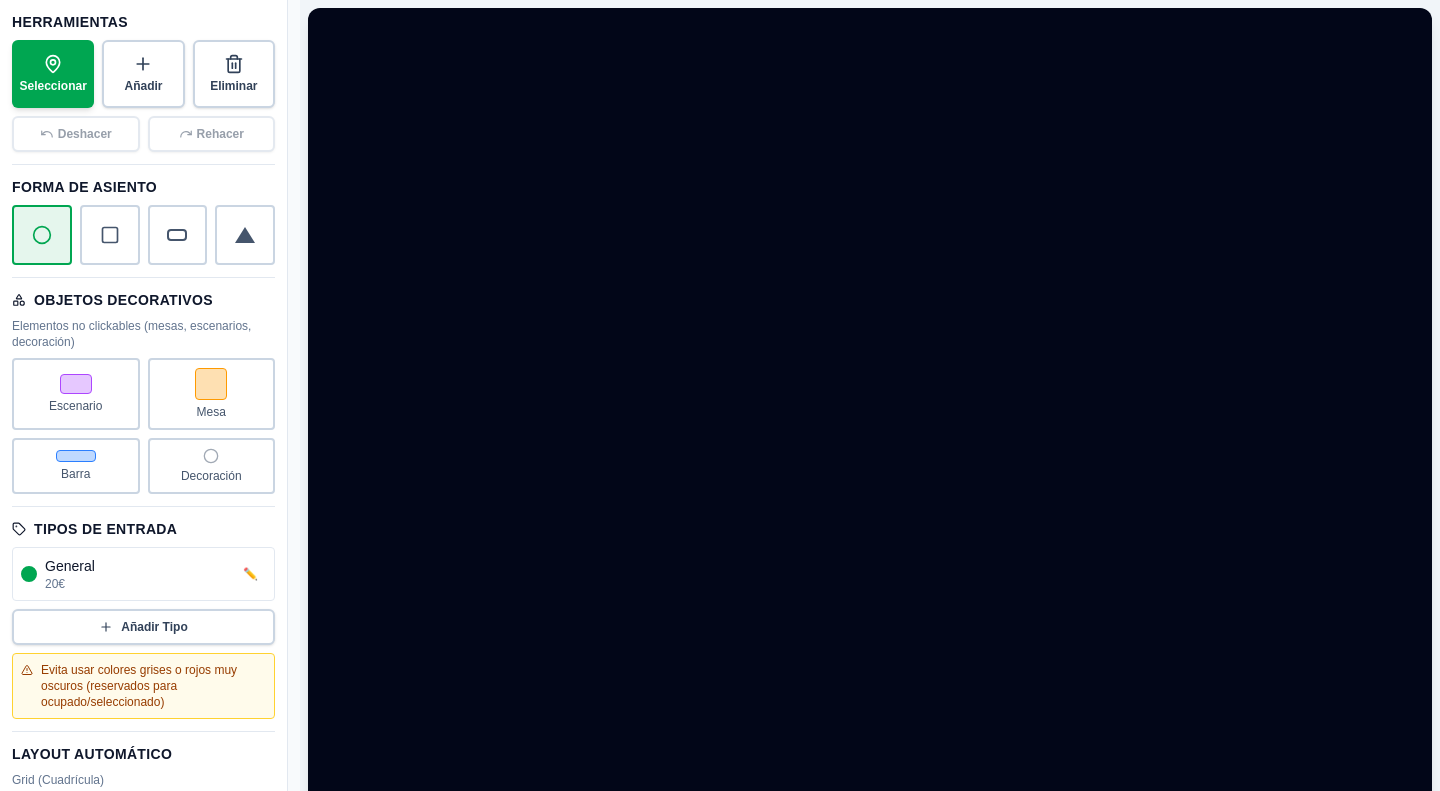
it: SeatMapEditor › permite añadir un nuevo tipo de entrada
The image size is (1440, 791).
Click the button "Añadir Tipo": coordinates (144, 627) 12,609 -> 275,645
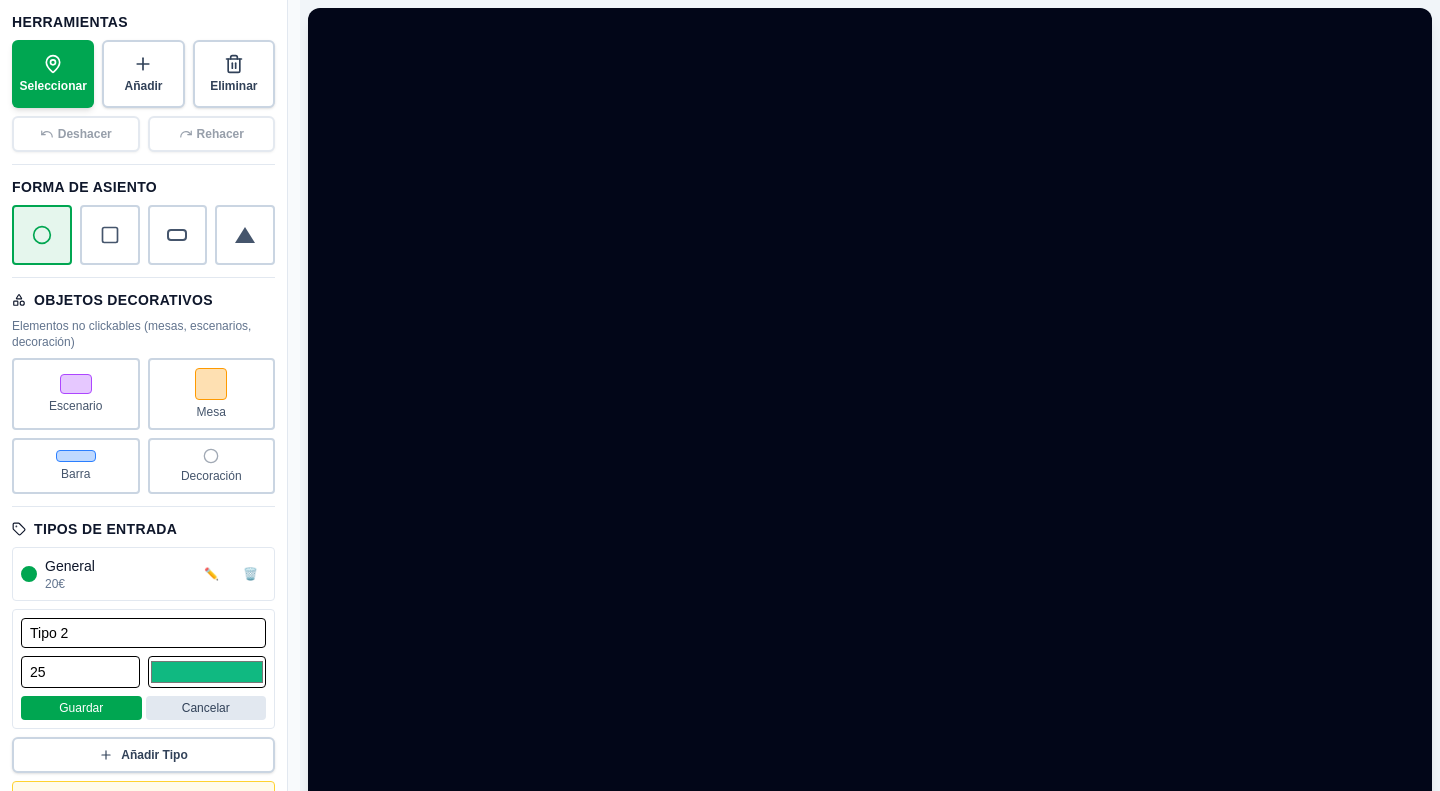
Now the field with placeholder "Nombre" is shown, box 21,618 -> 266,648
